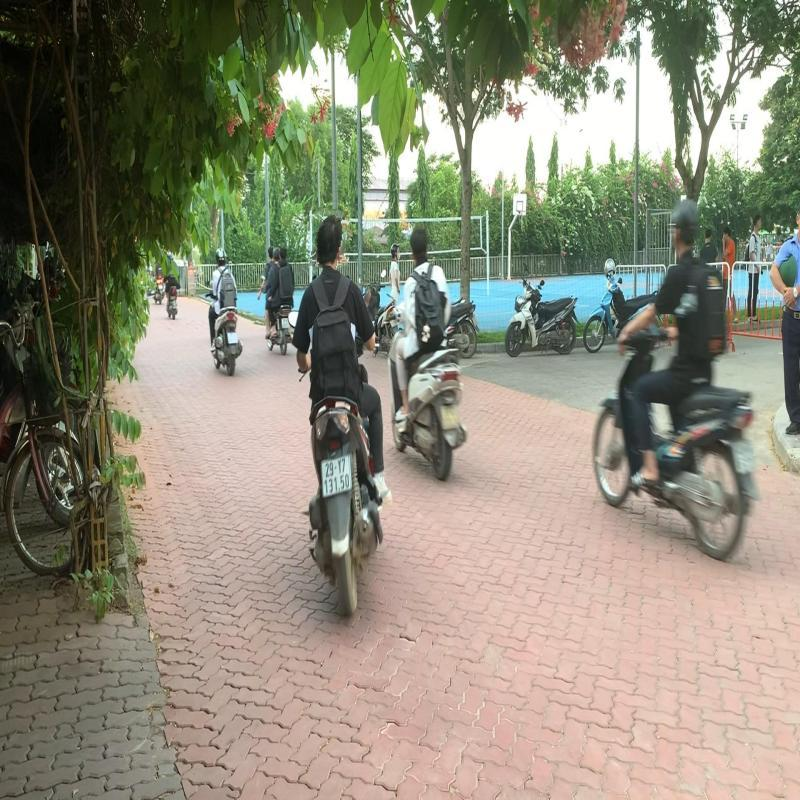nohelmet: (311, 208, 348, 270)
